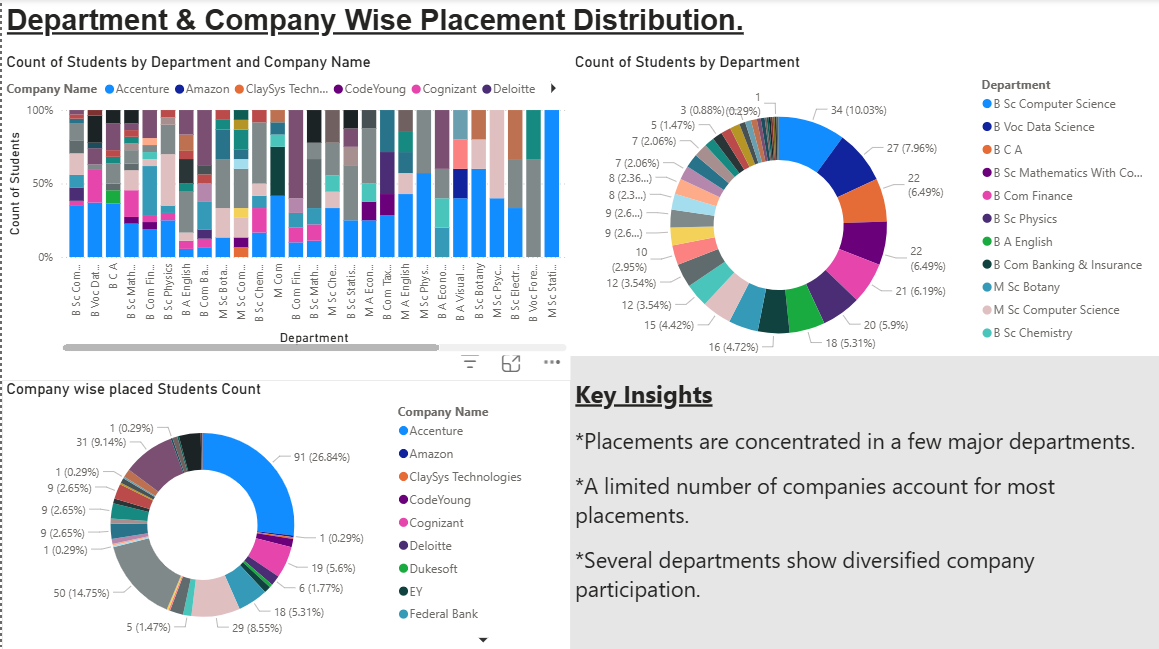

The page's visual inventory and layout, read from the dashboard file:
{"tool":"powerbi","page":{"name":"Dept & Company Wise","canvas":[1280,720],"ordinal":1},"visuals":[{"type":"donutChart","title":"Company wise placed Students Count","fields":{"Series":["Table 1 (Sheet1).Company Name"],"Y":["CountNonNull(Table 1 (Sheet1).Position)"]},"box":[0,420,628,300],"z":0},{"type":"donutChart","fields":{"Category":["Table 1 (Sheet1).Department"],"Y":["CountNonNull(Table 1 (Sheet1).Students)"]},"box":[628,60,652,360],"z":1000},{"type":"hundredPercentStackedColumnChart","fields":{"Category":["Table 1 (Sheet1).Department"],"Y":["CountNonNull(Table 1 (Sheet1).Students)"],"Series":["Table 1 (Sheet1).Company Name"]},"box":[0,60,628,334],"z":2000},{"type":"textbox","box":[0,0,1280,60],"z":3000},{"type":"textbox","box":[628,394,652,326],"z":4000}]}

Visuals, with their boxes in screenshot pixels (x1, y1, x2, y2), scaled from the page's 1280x720 canvas onto the 1159x649 screenshot:
"Company wise placed Students Count" donutChart: BBox(0, 379, 569, 648)
donutChart - Table 1 (Sheet1).Department x CountNonNull(Table 1 (Sheet1).Students): BBox(569, 54, 1158, 379)
hundredPercentStackedColumnChart - Table 1 (Sheet1).Department x CountNonNull(Table 1 (Sheet1).Students): BBox(0, 54, 569, 355)
textbox: BBox(0, 0, 1158, 54)
textbox: BBox(569, 355, 1158, 648)
